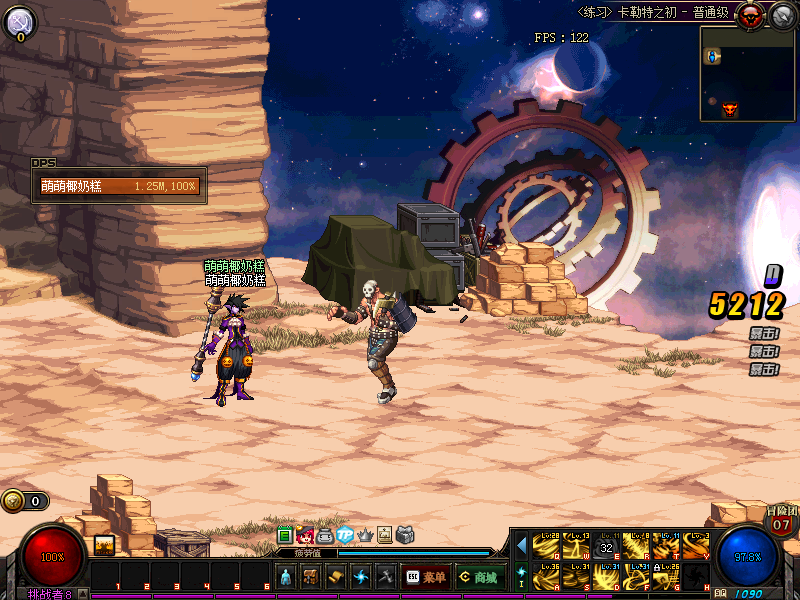BoneMan: (364, 278, 406, 399)
StormRider: (214, 294, 253, 402)
